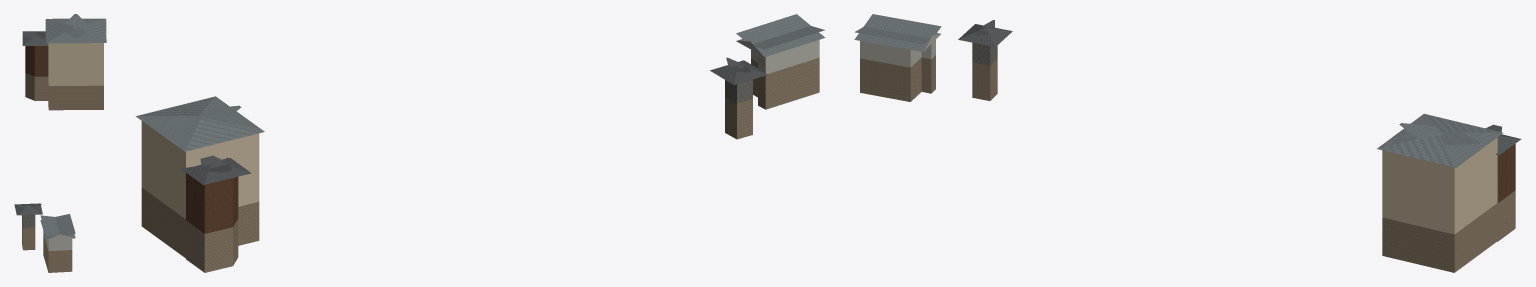
File: bld_c4_20_455.gltf
The picture shows the model from 3 angles, left to right: view 1: azimuth 30°, elevation 25°; view 2: azimuth 150°, elevation 25°; view 3: azimuth 270°, elevation 25°; orthographic projection. The views are drawn at different scales.
Parts seen in each view (by area): view 1: bld_c4_20_455; view 2: bld_c4_20_455; view 3: bld_c4_20_455.
Part boxes in pixels (left/top/right/bottom): bld_c4_20_455: left=14, top=14, right=106, bottom=272; bld_c4_20_455: left=136, top=14, right=825, bottom=272; bld_c4_20_455: left=854, top=14, right=1521, bottom=272.
Size of the model in its own units: 53.77 by 15.4 by 80.39.
Materials: 8 (8 with a texture image).
